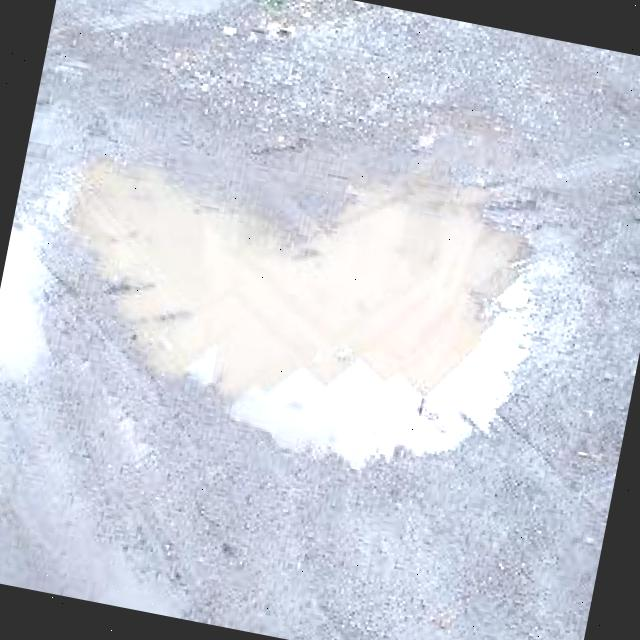stagnation: (18, 116, 564, 488)
